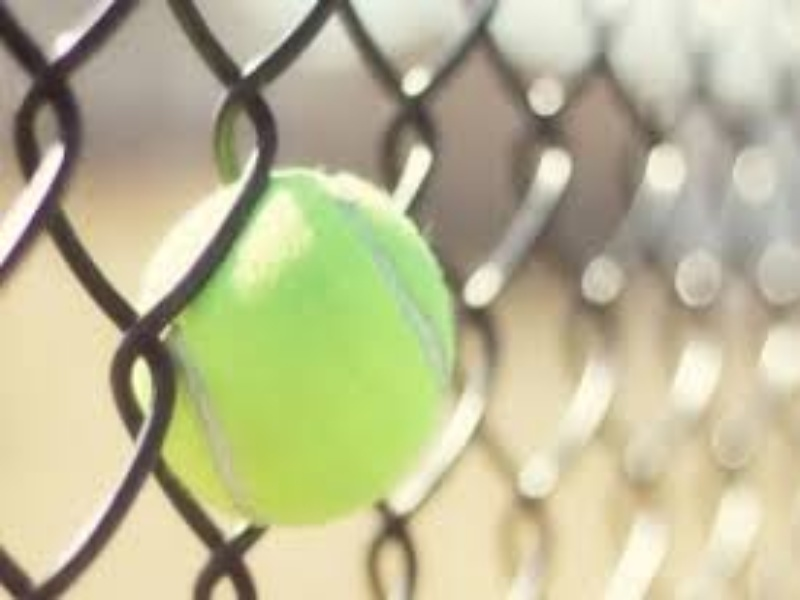tennis ball: (143, 154, 468, 520)
